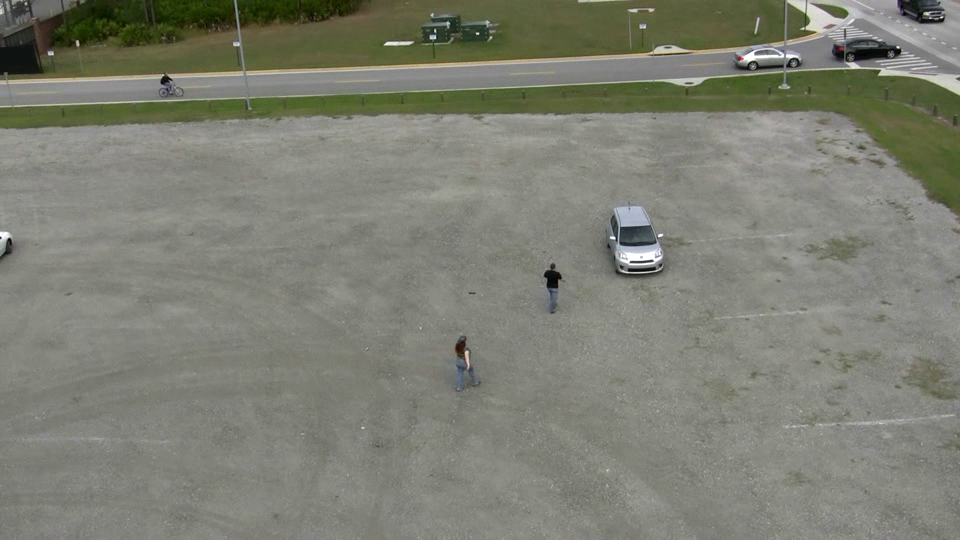vehicle: (603, 205, 666, 277), (830, 36, 903, 63), (733, 44, 804, 71), (158, 82, 185, 98)
